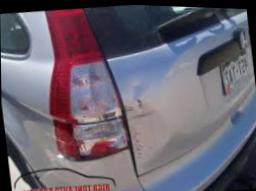Light: (67, 56, 133, 163)
